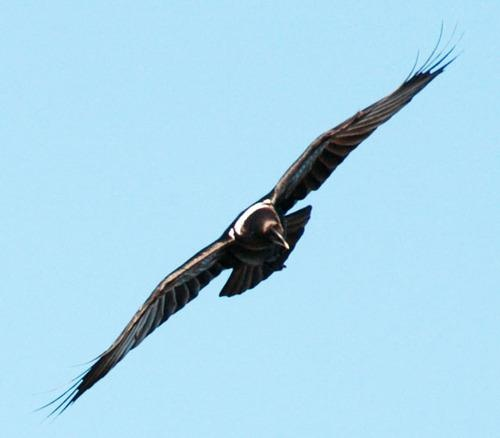bird: (43, 46, 458, 418)
